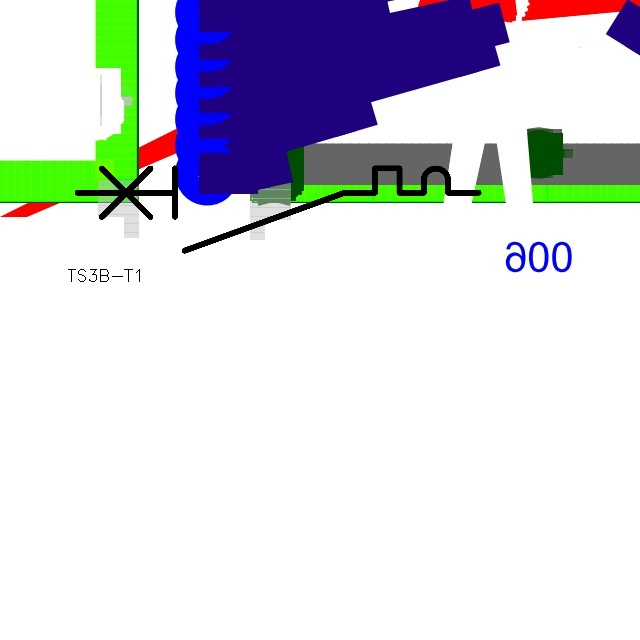interruptor_termomagnetico: (67, 158, 489, 261)
